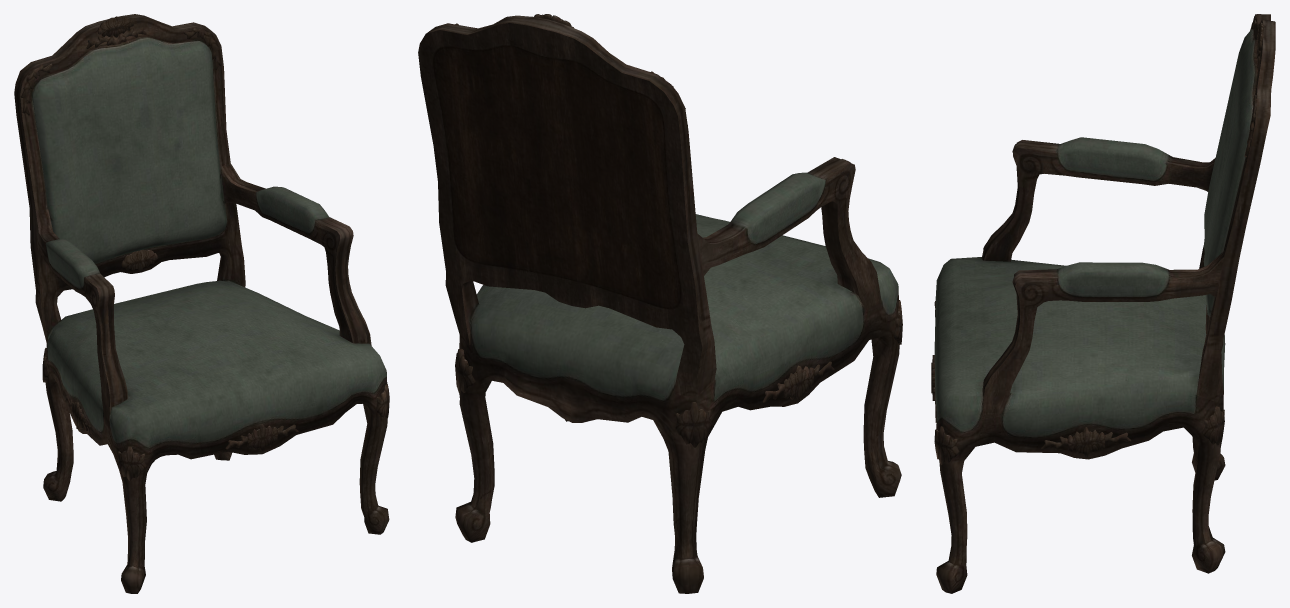
Rendered from green_chair_01.glb.
The picture shows the model from 3 angles, left to right: view 1: azimuth 30°, elevation 25°; view 2: azimuth 150°, elevation 25°; view 3: azimuth 270°, elevation 25°; orthographic projection. The views are drawn at different scales.
Visible parts, largest first — view 1: GreenChair_01; view 2: GreenChair_01; view 3: GreenChair_01.
Part boxes in pixels (left/top/right/bottom): GreenChair_01: left=14, top=14, right=389, bottom=593; GreenChair_01: left=418, top=14, right=902, bottom=593; GreenChair_01: left=931, top=14, right=1275, bottom=593.
Bounding box in the file's own units: 0.6731 × 1.06 × 0.6644.
Materials: 1 (1 with a texture image).
